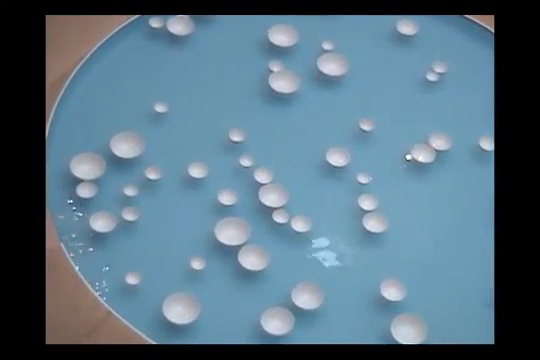bowl: (163, 291, 200, 327), (213, 215, 252, 248), (390, 311, 427, 344), (259, 305, 295, 337), (109, 130, 146, 161), (290, 280, 324, 312), (70, 151, 107, 180), (236, 242, 270, 273), (316, 51, 350, 80), (266, 23, 299, 50), (267, 70, 301, 95), (258, 183, 289, 209), (380, 277, 407, 304), (89, 210, 117, 235), (361, 211, 388, 235), (166, 15, 194, 37), (326, 146, 351, 169), (410, 143, 437, 164), (428, 132, 452, 154), (289, 214, 312, 234), (187, 160, 209, 180), (75, 180, 98, 199), (357, 193, 378, 213), (216, 187, 238, 206), (396, 19, 419, 37), (253, 166, 274, 185), (121, 205, 140, 222), (271, 208, 290, 225), (144, 164, 162, 181), (478, 134, 493, 153), (228, 128, 246, 143), (238, 153, 254, 169), (124, 271, 141, 286), (358, 117, 375, 132), (190, 256, 206, 270), (432, 60, 448, 74), (268, 59, 285, 72), (154, 100, 169, 114), (122, 184, 138, 197), (425, 70, 440, 83), (147, 16, 163, 28), (357, 173, 372, 185), (320, 39, 335, 51)
